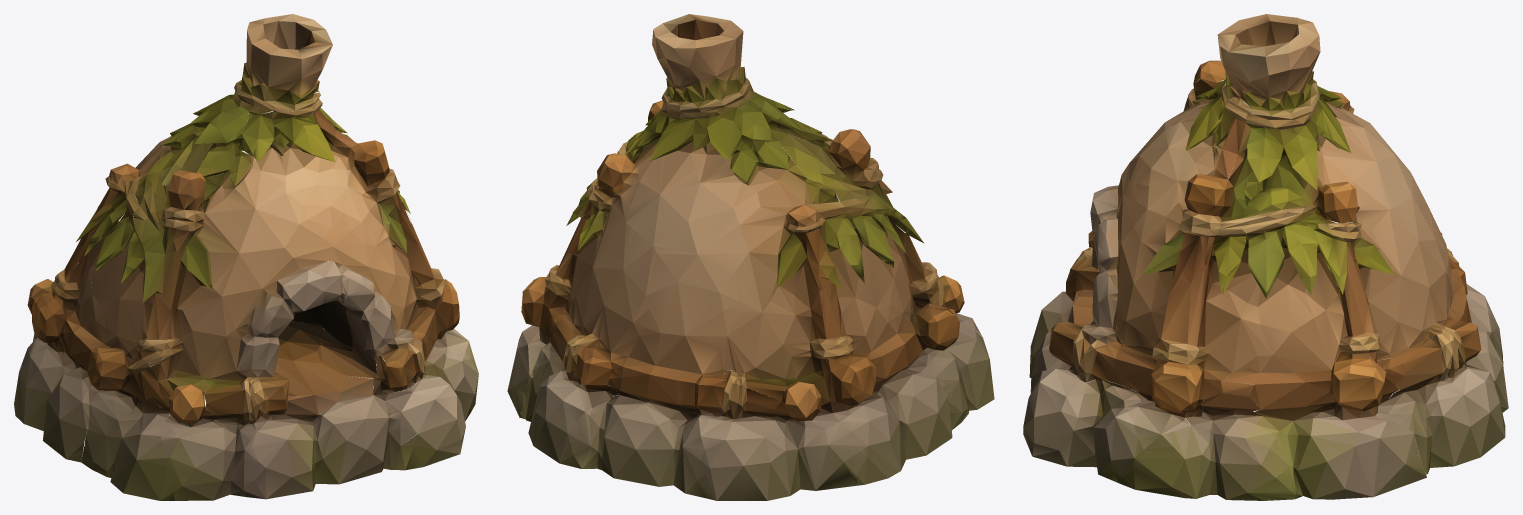
File: building-kiln.glb
The picture shows the model from 3 angles, left to right: view 1: azimuth 30°, elevation 25°; view 2: azimuth 150°, elevation 25°; view 3: azimuth 270°, elevation 25°; orthographic projection. The views are drawn at different scales.
Visible parts, largest first — view 1: 0_kiln; view 2: 0_kiln; view 3: 0_kiln.
Boxes of the visible parts, x1,y1,x2,y2 form: 0_kiln: (14,14,478,500); 0_kiln: (507,14,994,500); 0_kiln: (1023,14,1508,500).
Size of the model in its own units: 1.92 by 1.71 by 1.92.
